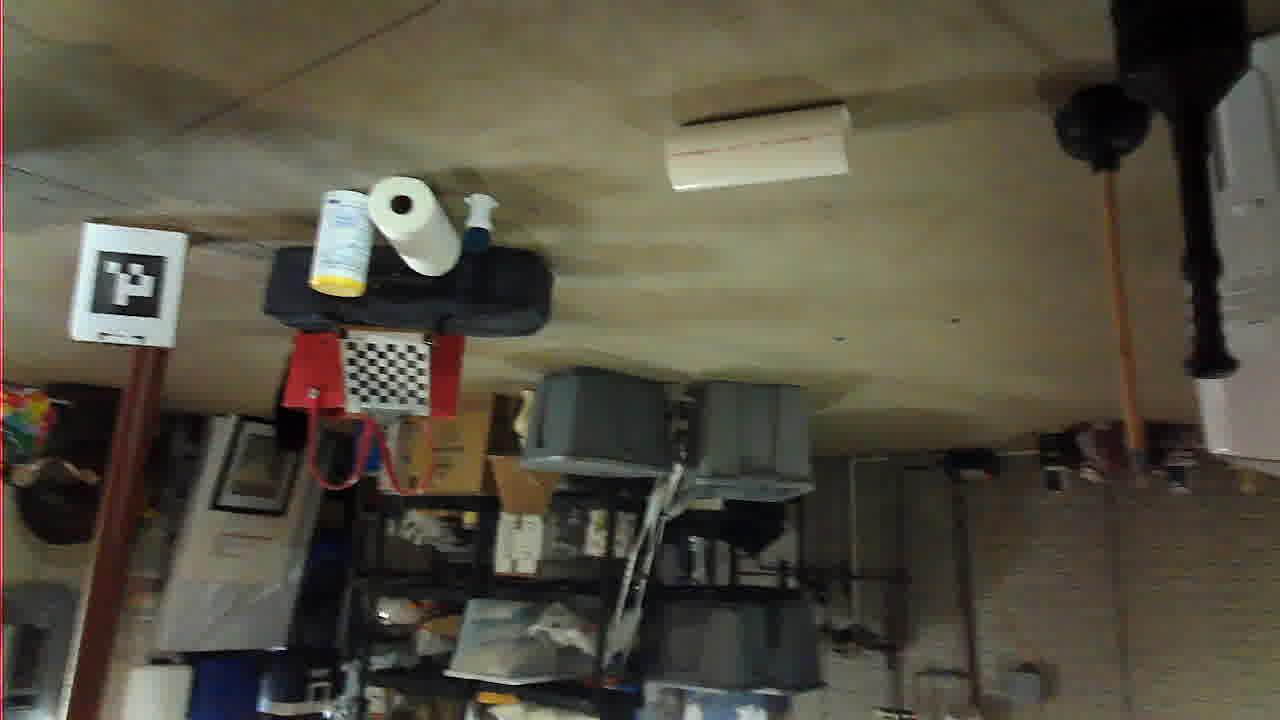coral: (429, 527, 613, 619)
